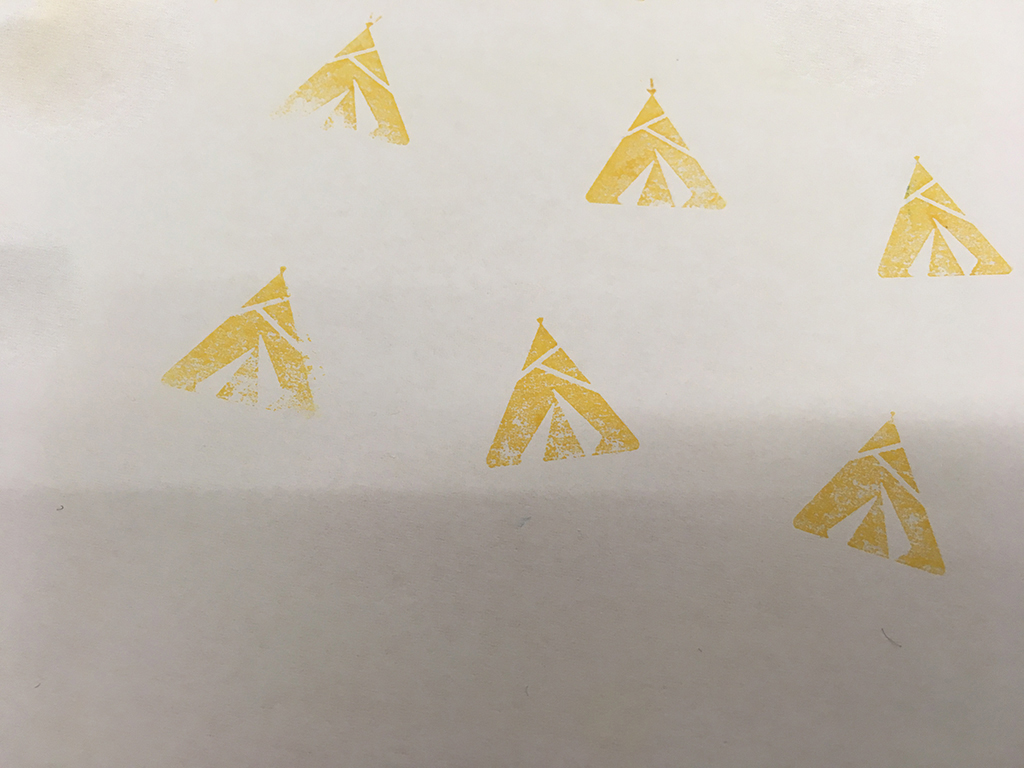tent: (786, 405, 950, 584), (159, 266, 323, 422), (479, 312, 644, 466), (577, 71, 736, 220), (262, 7, 420, 152), (878, 149, 1013, 280)
